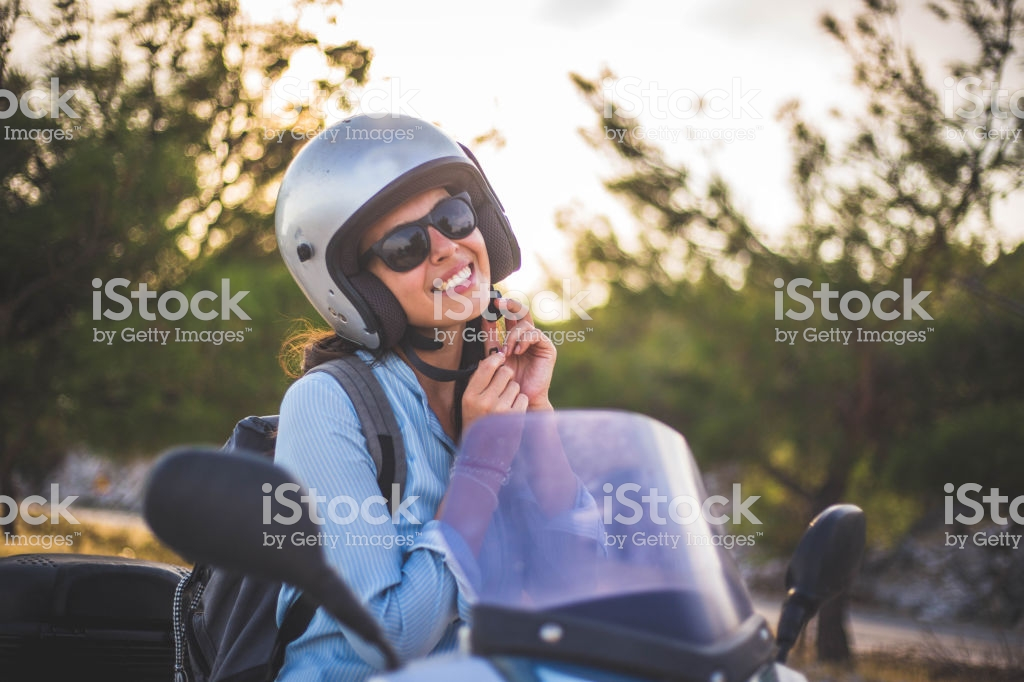helmet: (267, 106, 540, 321)
